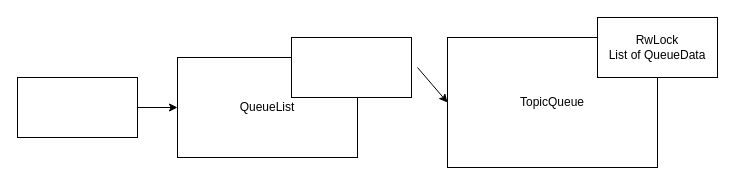
This 735x185 diagram has some shape labels left out. Each missing label, with the centre of its shape:
"RwLock List of TopicQueue" belongs at (351,67).
"Topic" belongs at (77,107).
